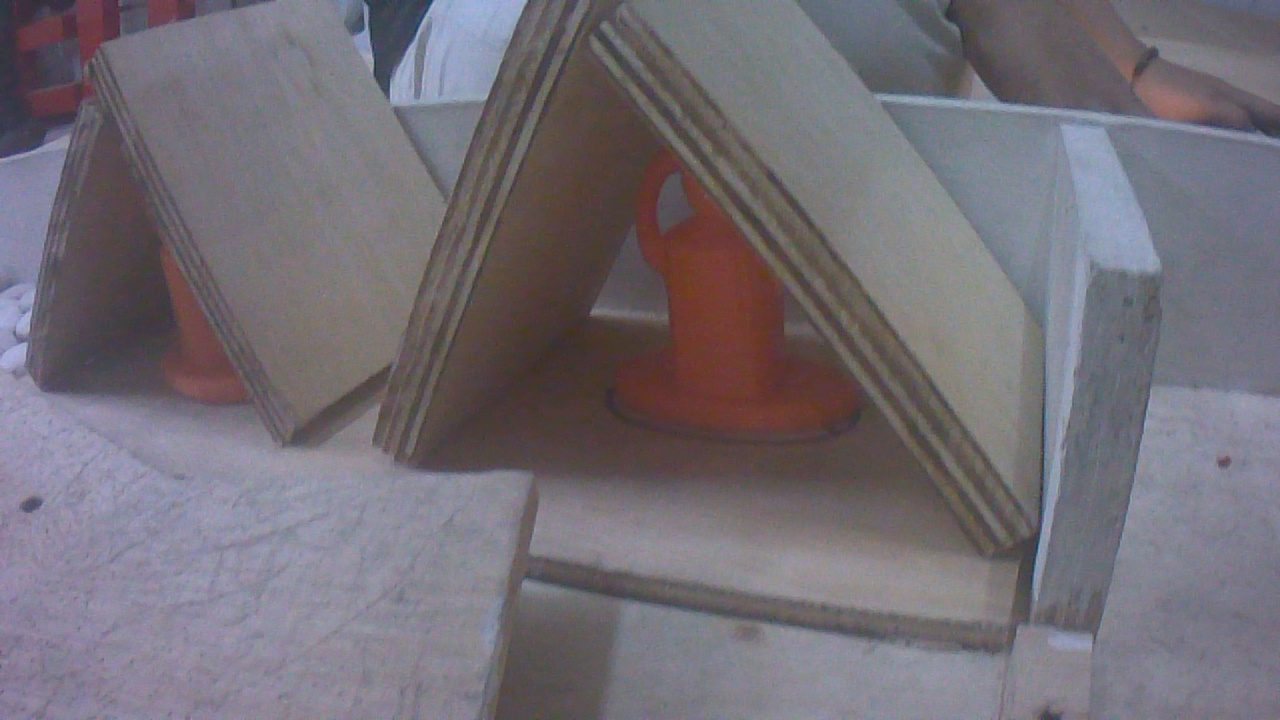real: (600, 128, 838, 433)
